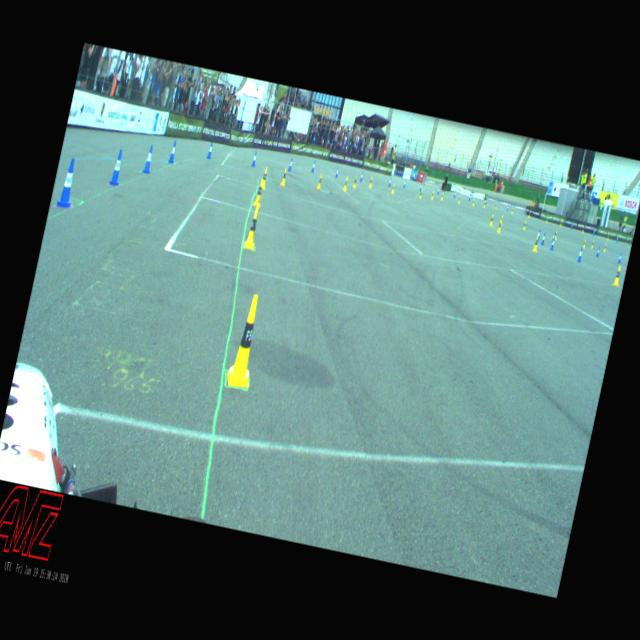blue_cone: (56, 157, 79, 207), (110, 149, 124, 185), (142, 144, 154, 174), (168, 140, 178, 162), (206, 141, 213, 158), (251, 151, 257, 166), (577, 247, 583, 261), (550, 237, 556, 250), (288, 157, 293, 170), (541, 232, 545, 244), (311, 160, 315, 172), (536, 228, 540, 240), (334, 166, 338, 177), (618, 253, 622, 263), (596, 246, 600, 256), (552, 232, 556, 242), (388, 177, 392, 186), (403, 179, 406, 187), (436, 186, 439, 194), (419, 182, 422, 190), (360, 172, 362, 181), (468, 194, 471, 200), (453, 190, 455, 197), (616, 236, 618, 242), (592, 230, 594, 236), (525, 210, 527, 216), (570, 223, 572, 228)
yellow_cone: (224, 293, 266, 388), (244, 204, 262, 249), (252, 178, 265, 206), (612, 265, 622, 285), (260, 167, 268, 189), (280, 168, 288, 185), (532, 234, 540, 250), (496, 218, 502, 232), (342, 177, 348, 190), (317, 174, 322, 188), (352, 175, 357, 187), (368, 176, 372, 187), (489, 214, 493, 225), (522, 220, 526, 230), (391, 184, 395, 194), (554, 230, 557, 240), (431, 190, 434, 199), (419, 189, 422, 198), (591, 240, 594, 248), (582, 240, 585, 248), (457, 195, 460, 202), (441, 192, 444, 199), (604, 243, 606, 252), (500, 215, 502, 223), (472, 198, 474, 205), (484, 200, 486, 207), (546, 216, 548, 223), (494, 203, 496, 209), (606, 234, 608, 240), (510, 207, 512, 213), (582, 226, 584, 232), (528, 212, 530, 217), (628, 242, 630, 247)
